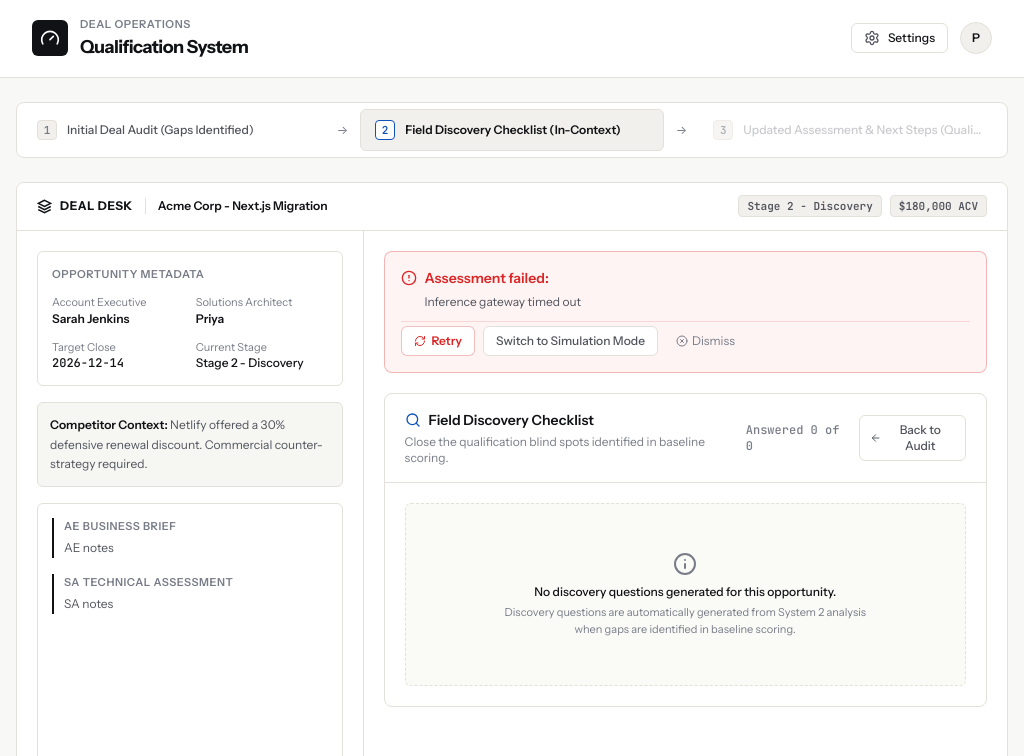
Scenario: LiveQualificationWorkbench on useEveAgent › retrying from ProblemCauseFixBanner after failure resets agent and transitions to blank state
The image size is (1024, 756).
Expected: the message that starts with "Assessment failed:" is shown, 384,250 -> 987,373
Click the button "Retry" at (438, 341), box 400,326 -> 475,356
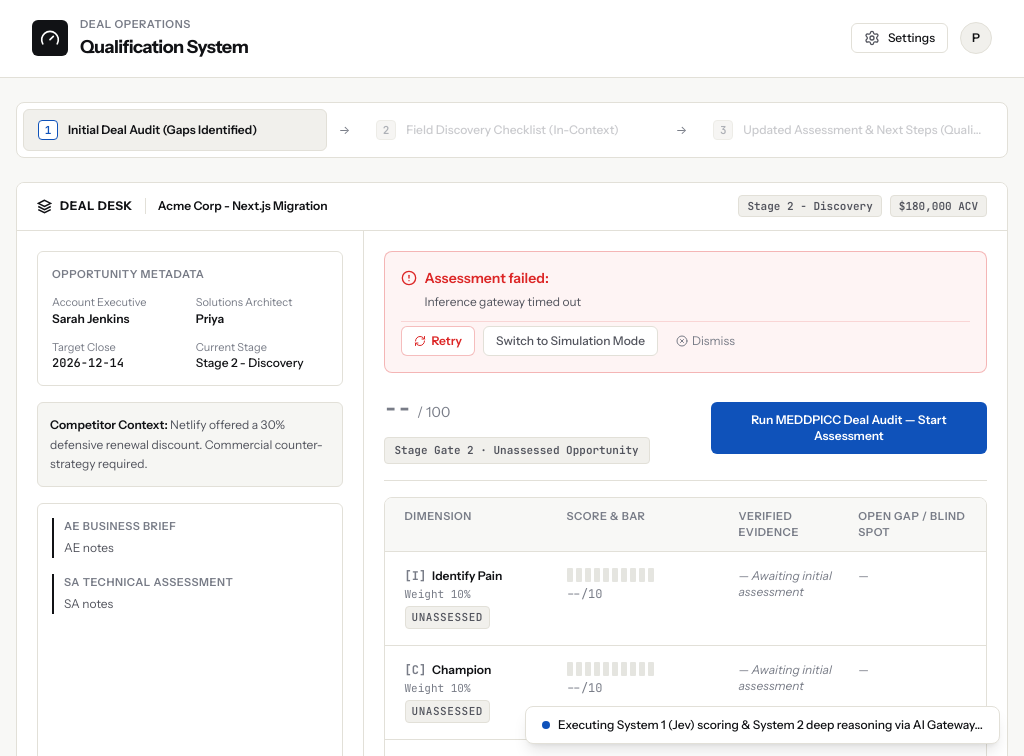
Now the text "Stage Gate 2 · Unassessed Opportunity" is shown, box 384,437 -> 650,464
